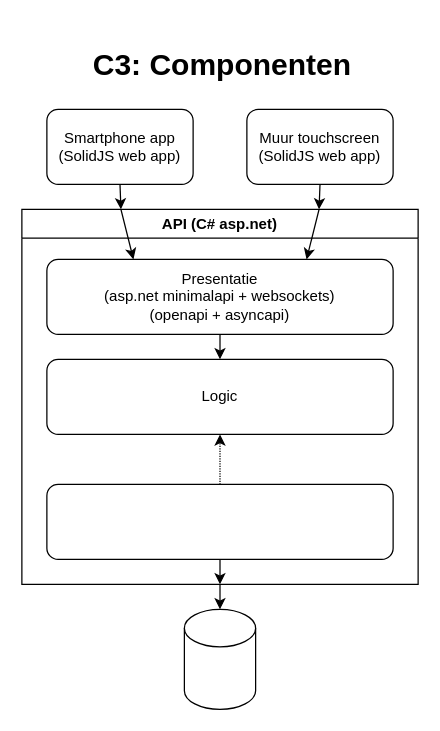
The diagram is 440 pixels wide and 731 high, and some of its shapes have lost their labels. Here are the shapes that lost their labels. From the top down, the centre of each, then its label:
the point at 219,521: Data (EFCore + EFCore.Identity)
the point at 219,658: Database (MSSQL)
